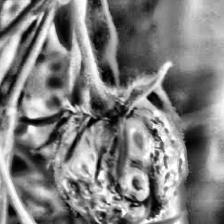Gray Mold: (20, 60, 180, 183)
